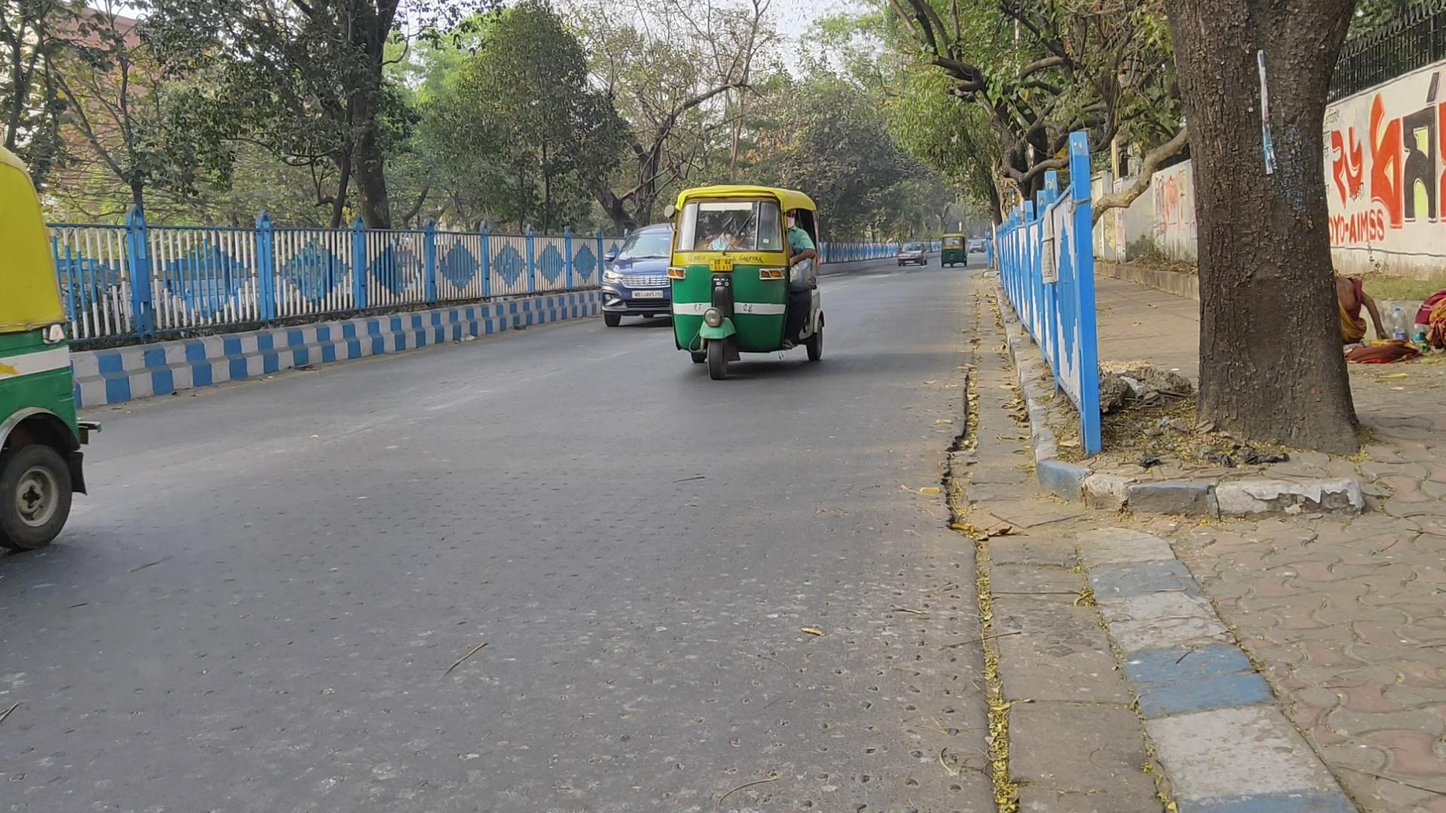Auto: (664, 183, 826, 380), (938, 231, 968, 269)
car: (600, 221, 682, 327), (897, 240, 927, 268)
